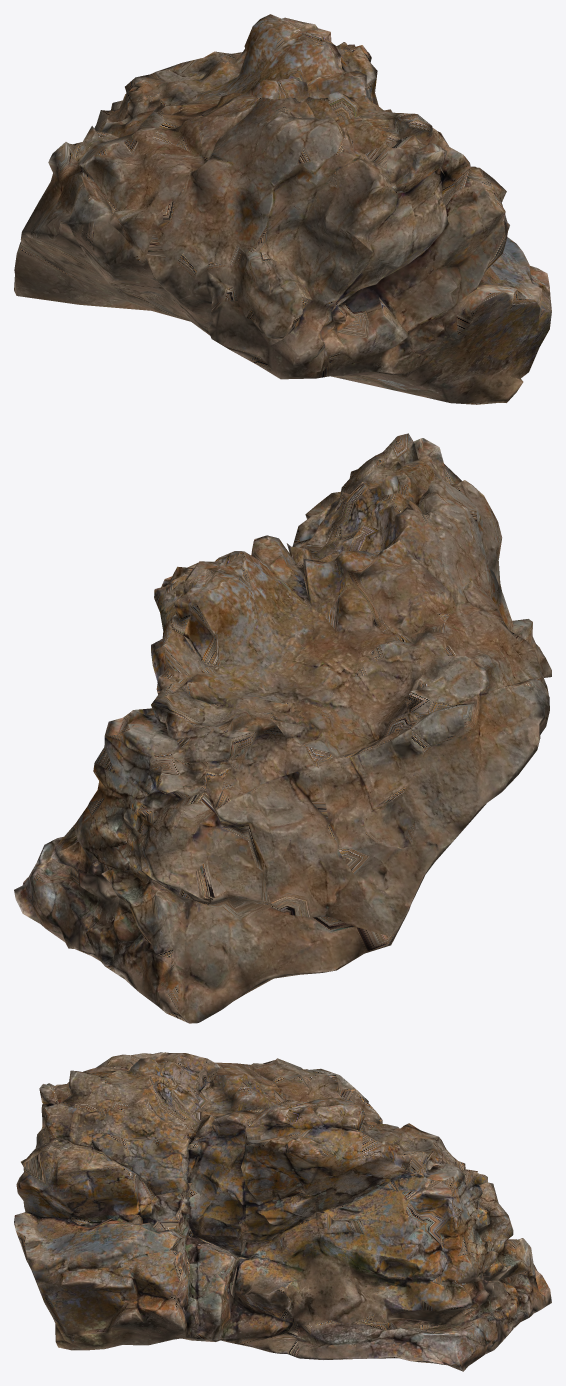
File: boulder.glb
The picture shows the model from 3 angles, top to bottom: view 1: azimuth 30°, elevation 25°; view 2: azimuth 150°, elevation 25°; view 3: azimuth 270°, elevation 25°; orthographic projection. The views are drawn at different scales.
Visible parts, largest first — view 1: boulder_01; view 2: boulder_01; view 3: boulder_01.
Part boxes in pixels (<box>): boulder_01: <box>14,14,551,404</box>; boulder_01: <box>14,433,551,1023</box>; boulder_01: <box>14,1052,551,1371</box>.
Size of the model in its own units: 1.27 by 1 by 1.82.
Materials: 1 (1 with a texture image).
